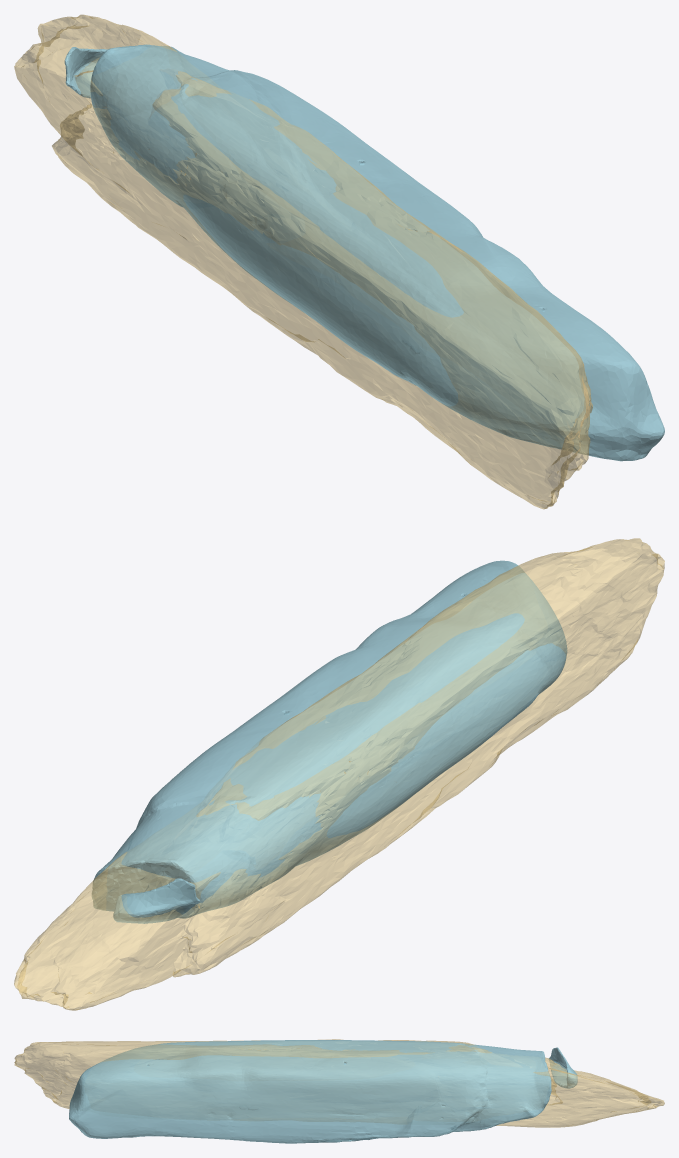
Rendered from overlay-7168545.glb.
3 views of the same model, one above another, from view 1: azimuth 30°, elevation 25°; view 2: azimuth 150°, elevation 25°; view 3: azimuth 270°, elevation 25° (orthographic). The views are drawn at different scales.
Visible parts, largest first — view 1: admitted_hypothesis_blue, true_scan_amber; view 2: true_scan_amber, admitted_hypothesis_blue; view 3: admitted_hypothesis_blue, true_scan_amber.
Part boxes in pixels (left/top/right/bottom): admitted_hypothesis_blue: left=64, top=44, right=664, bottom=461; true_scan_amber: left=14, top=14, right=592, bottom=509; true_scan_amber: left=14, top=538, right=664, bottom=1010; admitted_hypothesis_blue: left=92, top=560, right=567, bottom=923; admitted_hypothesis_blue: left=69, top=1040, right=577, bottom=1143; true_scan_amber: left=14, top=1039, right=664, bottom=1127.
Size of the model in its own units: 0.1878 by 0.1549 by 1.17.
